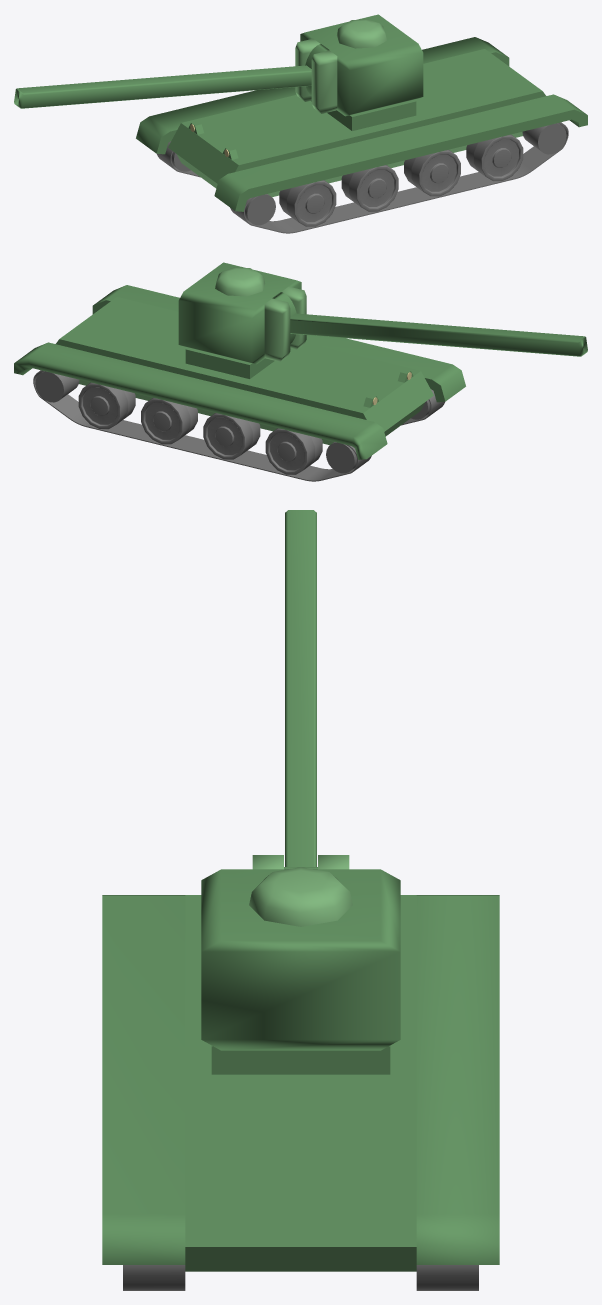
The model's file is Tanks and Armored Vehicle(3).glb.
3 renders of one model, top to bottom at view 1: azimuth 30°, elevation 25°; view 2: azimuth 150°, elevation 25°; view 3: azimuth 270°, elevation 25°, orthographic. The views are drawn at different scales.
Visible parts, largest first — view 1: Root; view 2: Root; view 3: Root.
Part boxes in pixels (<box>): Root: <box>14,14,587,233</box>; Root: <box>14,262,587,481</box>; Root: <box>102,510,499,1290</box>.
Size of the model in its own units: 11.57 by 3.52 by 3.82.
